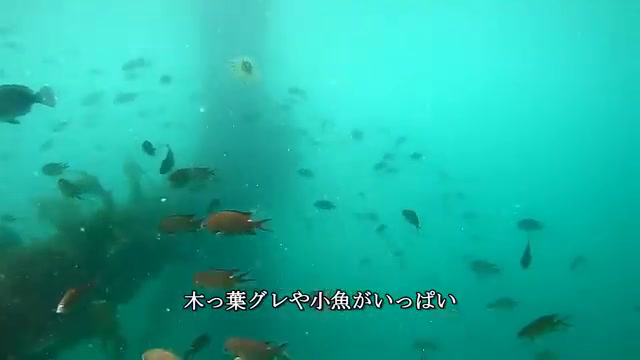smallfish: (507, 298, 566, 343), (200, 207, 270, 243), (192, 260, 257, 291), (397, 204, 428, 233)
